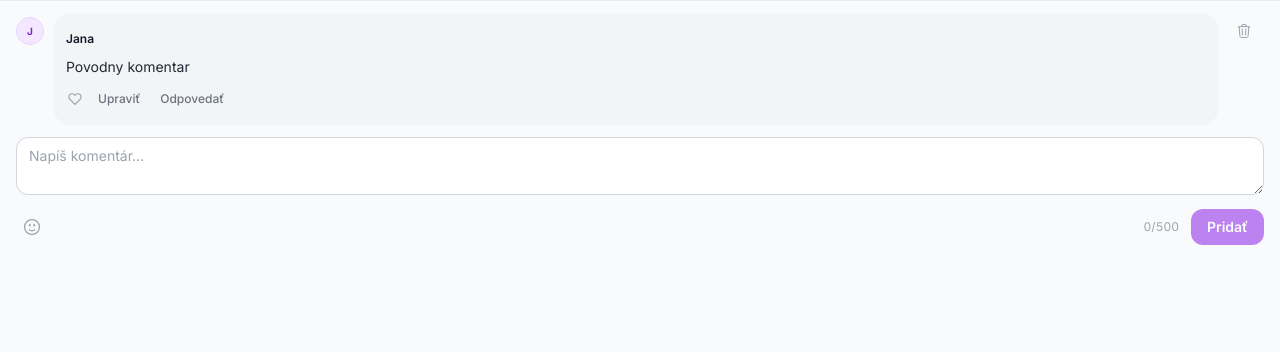
Scenario: inline úprava › cancels without sending anything
Check: the text "Povodny komentar" is shown, box [66,58,190,75]
Click the button with test id "feed-comment-edit-1" at (119, 99), box [92,81,146,117]
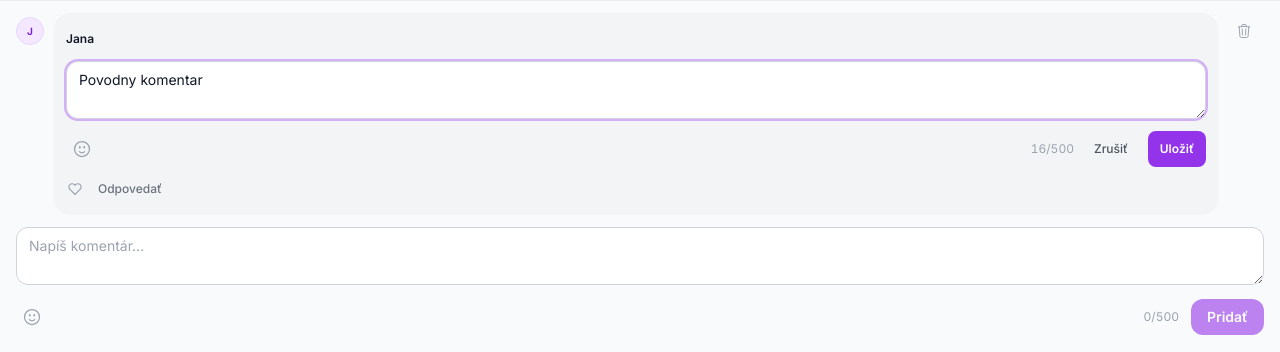
Click the button "Zrušiť" at (1111, 149), box [1082,131,1140,167]
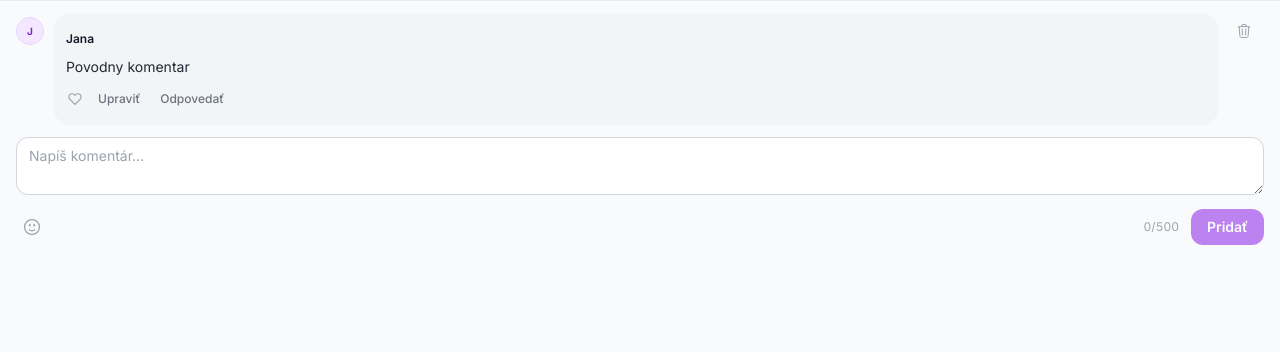
Check: the element with test id "feed-comment-edit-composer-1" is gone
Check: the text "Povodny komentar" is shown, box [66,58,190,75]
